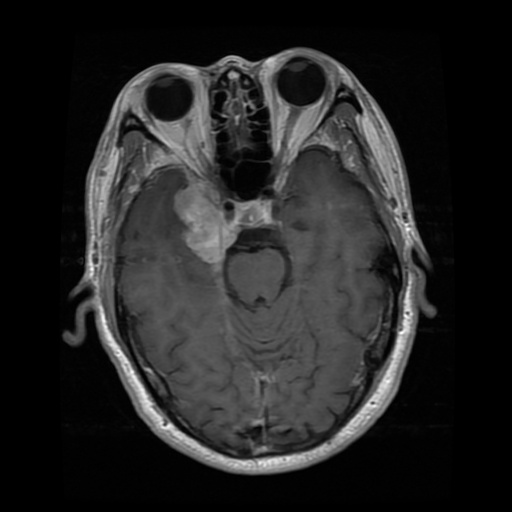meningioma: (171, 177, 238, 261)
